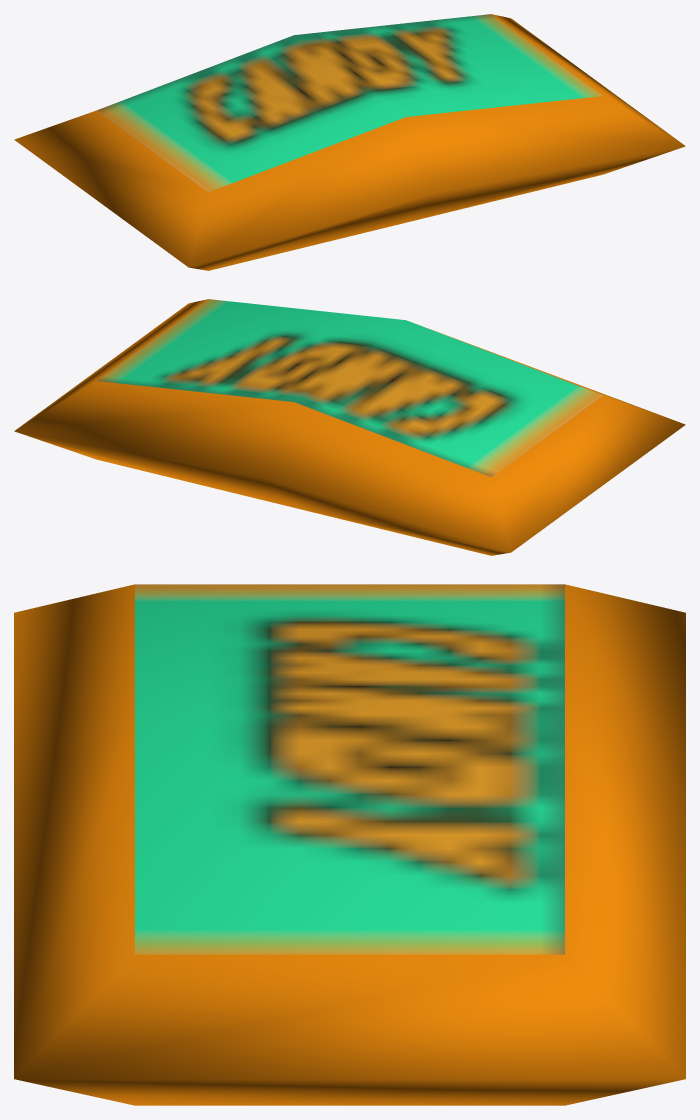
File: Candy_Green.fbx
3 renders of one model, top to bottom at view 1: azimuth 30°, elevation 25°; view 2: azimuth 150°, elevation 25°; view 3: azimuth 270°, elevation 25°, orthographic. The views are drawn at different scales.
Visible parts, largest first — view 1: Candy_Green_1; view 2: Candy_Green_1; view 3: Candy_Green_1.
Boxes of the visible parts, x1,y1,x2,y2 form: Candy_Green_1: (14,14,685,270); Candy_Green_1: (14,299,685,555); Candy_Green_1: (14,584,685,1105).
Size of the model in its own units: 21.47 by 4.36 by 13.07.
